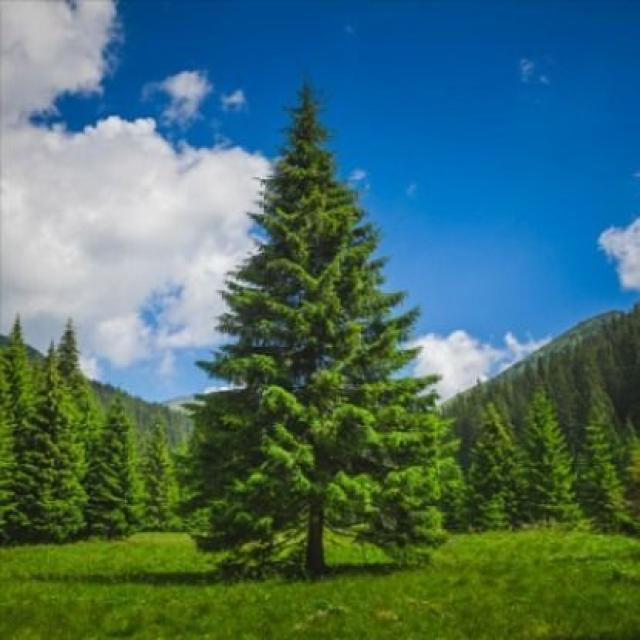pino: (190, 68, 450, 590), (10, 341, 80, 541), (514, 375, 578, 522), (588, 365, 637, 528), (459, 396, 511, 536), (95, 396, 134, 548), (137, 408, 181, 537), (49, 315, 84, 390)
